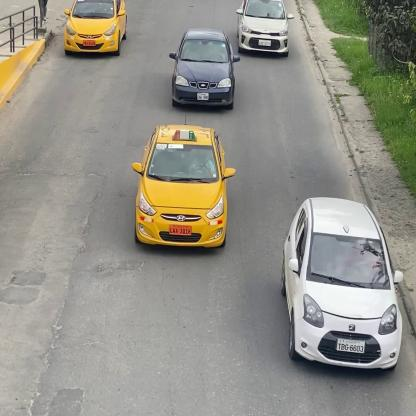Placa: (339, 339, 365, 355), (168, 225, 192, 237), (194, 92, 212, 102), (258, 40, 270, 46)
